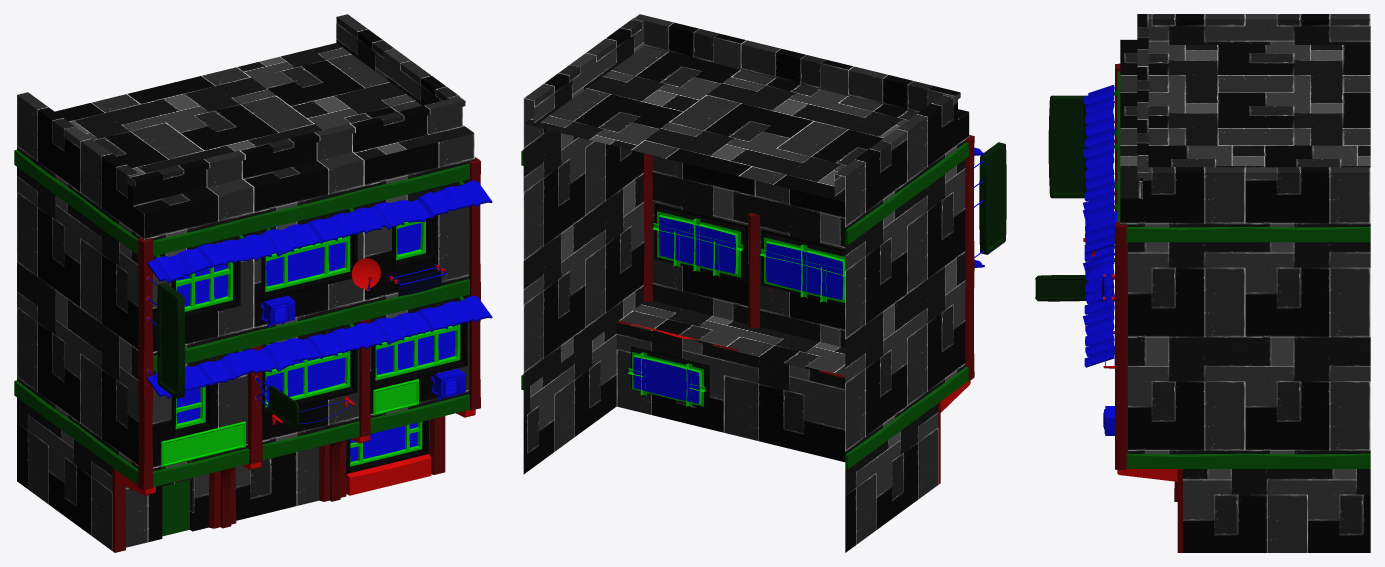
Rendered from SM_HumanBuilding05.FBX.
The picture shows the model from 3 angles, left to right: view 1: azimuth 30°, elevation 25°; view 2: azimuth 150°, elevation 25°; view 3: azimuth 270°, elevation 25°; orthographic projection. The views are drawn at different scales.
Visible parts, largest first — view 1: Wall1373; view 2: Wall1373; view 3: Wall1373.
Boxes of the visible parts, x1,y1,x2,y2 form: Wall1373: (14, 14, 492, 552); Wall1373: (521, 14, 1006, 552); Wall1373: (1035, 14, 1370, 552).
Bounding box in the file's own units: 2458 × 2142 × 2682.
